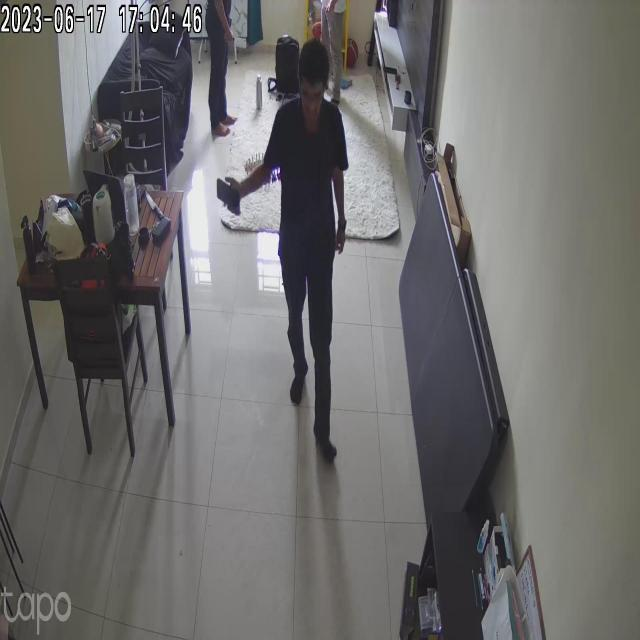Knife: (144, 190, 174, 222)
